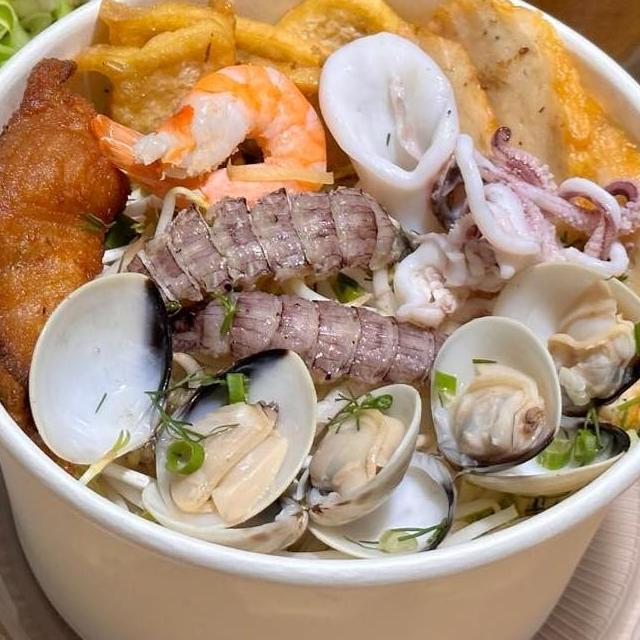ca: (0, 46, 135, 441)
dau hu: (62, 13, 248, 191), (90, 0, 333, 101), (260, 0, 425, 77)
muc: (379, 122, 640, 334), (312, 27, 480, 254)
tom: (82, 60, 332, 226)
tom tit: (118, 179, 434, 319), (148, 281, 478, 393)
